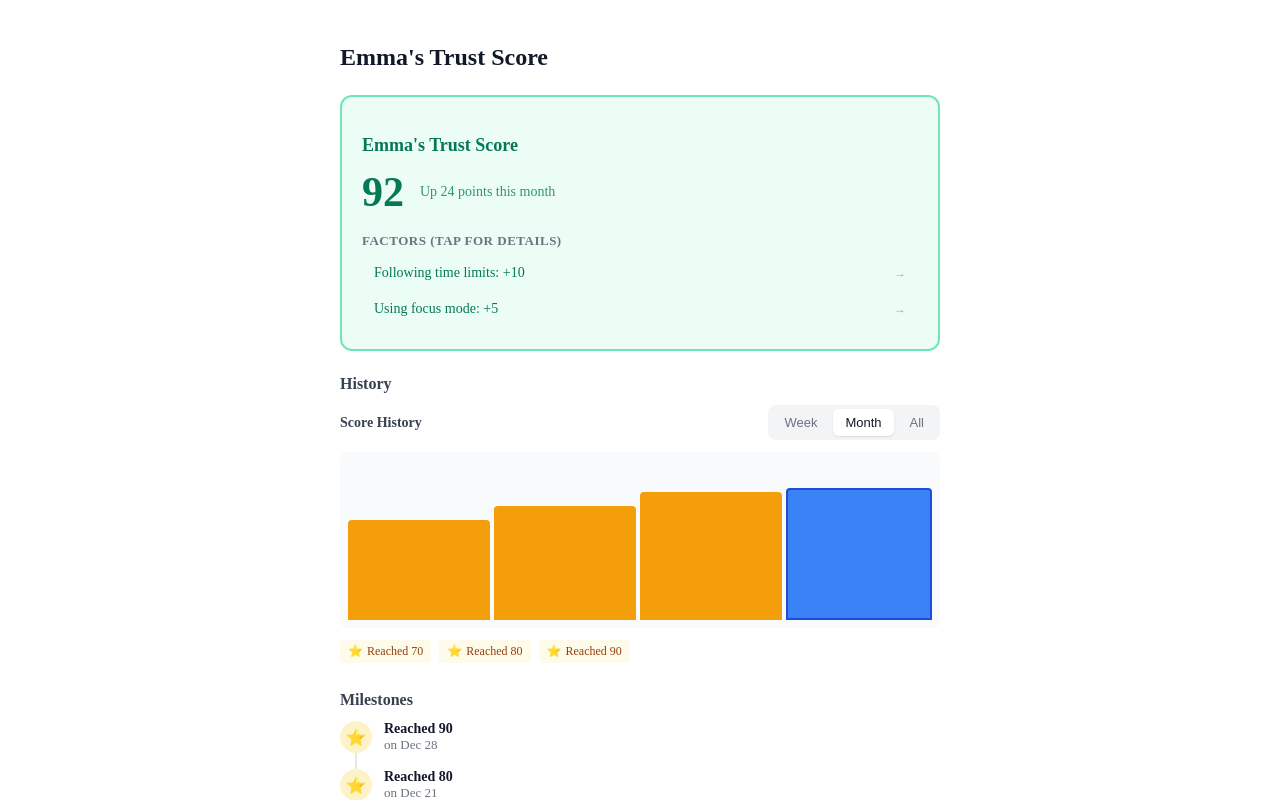
Scenario: End-to-end parent flow › should support complete parent interaction flow
The width and height of the screenshot is (1280, 800).
Expected: the heading with test id "view-title" reads "Emma's Trust Score", [340,44,548,70]
Expected: the text with test id "parent-score-value" reads "92", [362,169,404,215]
Parent changes time range
Click the button with test id "range-all".
click(917, 423)  # box [898,409,936,436]
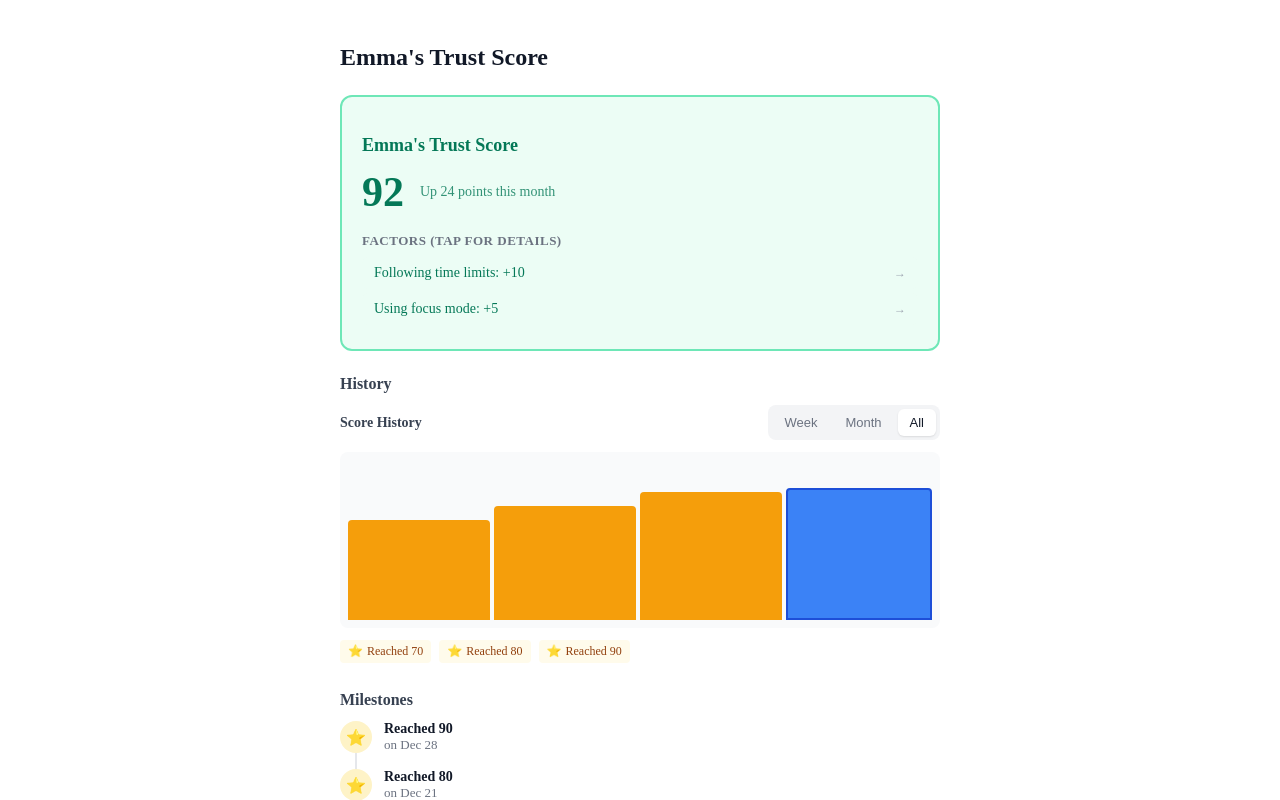
Expected: the list item with test id "timeline-milestone-90" is shown, [340,721,453,753]
Expected: the button with test id "range-all" has attribute data-selected="true", [898,409,936,436]
Parent clicks on a factor to see details
Click the button with test id "parent-factor-0".
click(449, 273)  # box [362,257,918,289]
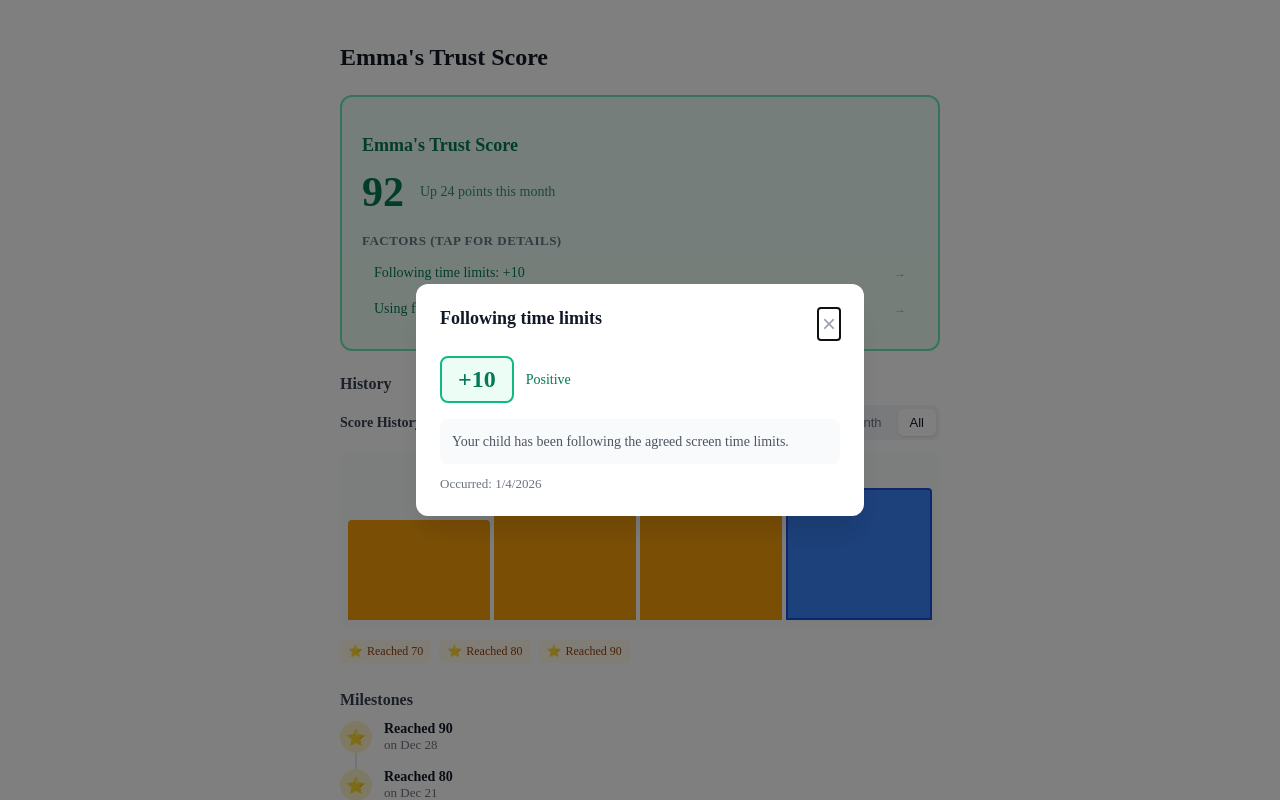
Expected: the element with test id "factor-detail-modal" is shown
Expected: the heading with test id "factor-description" reads "Following time limits", [440,308,602,328]
Parent closes modal
Click the button with test id "modal-close-button".
click(829, 324)  # box [818,308,840,340]
(page scrolled)
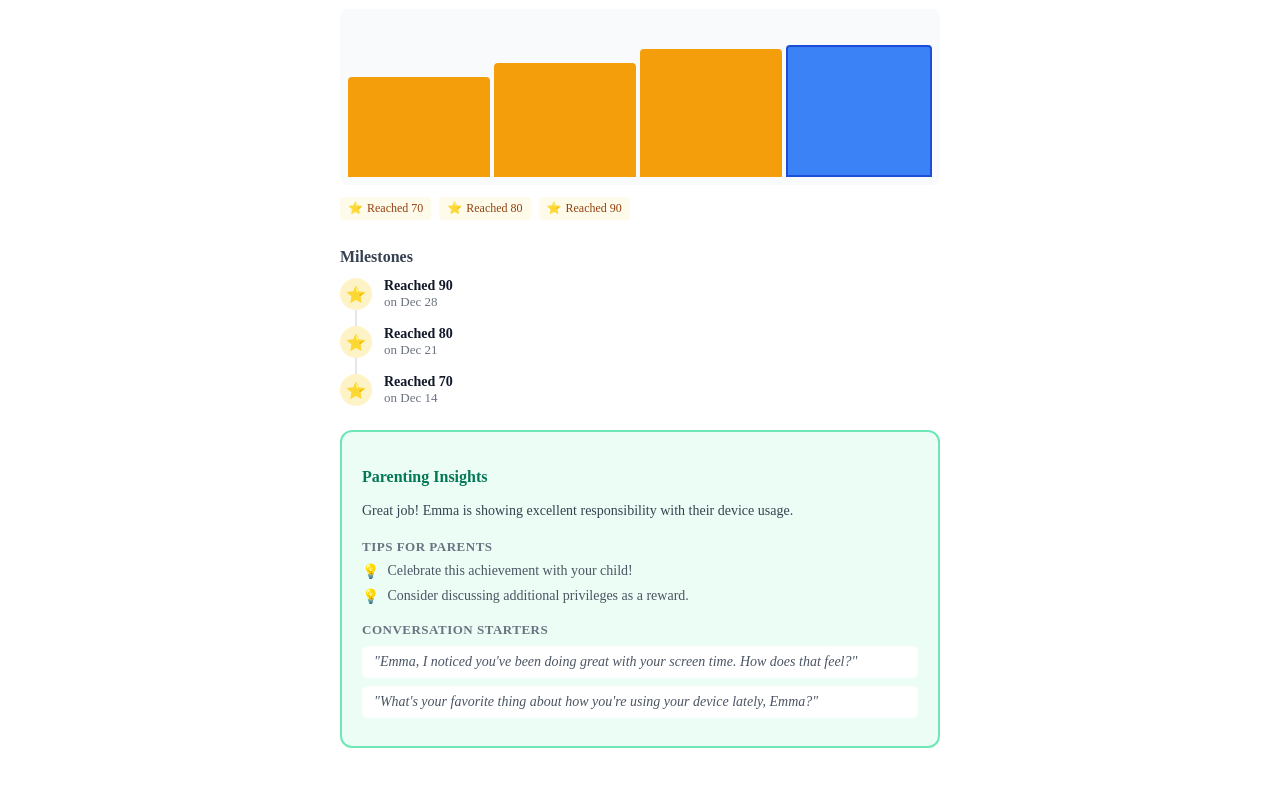
Expected: the element with test id "trust-guidance-card" is shown, [340,430,940,748]
Expected: the element with test id "factor-detail-modal" is gone
